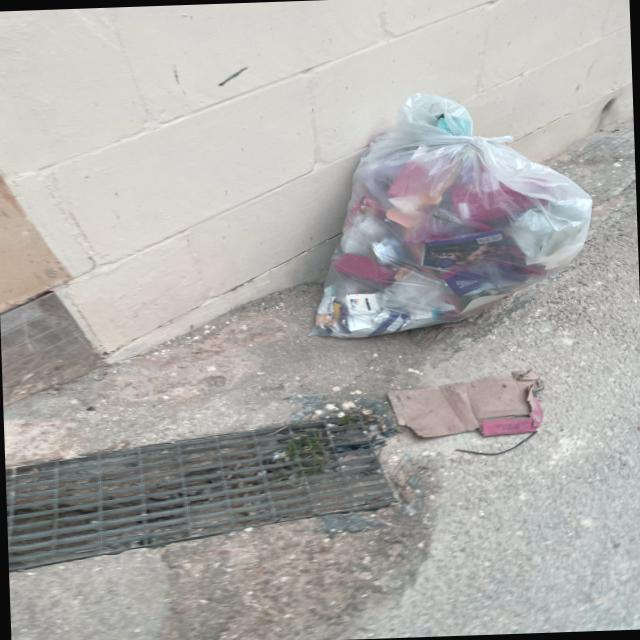grey_bag: (291, 84, 607, 342)
other_waste: (376, 366, 560, 442)
